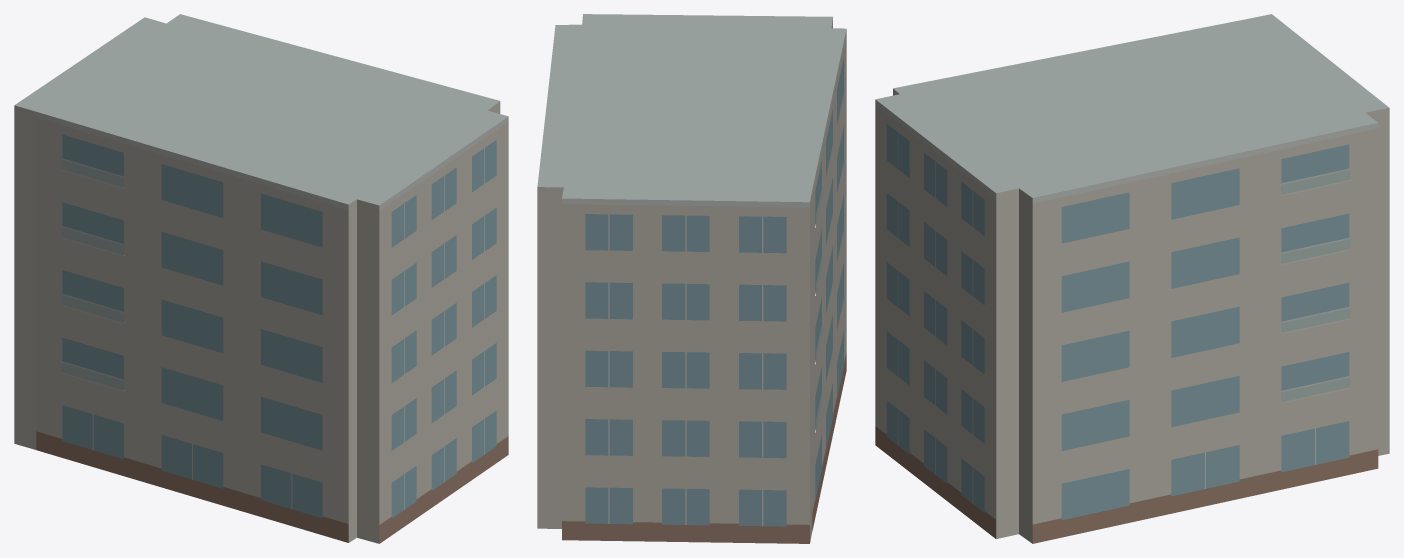
The model's file is survey-upis-33014215.glb.
3 views of the same model, side by side, from view 1: azimuth 30°, elevation 25°; view 2: azimuth 150°, elevation 25°; view 3: azimuth 270°, elevation 25° (orthographic). The views are drawn at different scales.
Parts seen in each view (by area): view 1: survey-upis-33014215.tmp; view 2: survey-upis-33014215.tmp; view 3: survey-upis-33014215.tmp.
Boxes of the visible parts, left/top/right/bottom form: survey-upis-33014215.tmp: left=14, top=14, right=508, bottom=543; survey-upis-33014215.tmp: left=537, top=14, right=846, bottom=543; survey-upis-33014215.tmp: left=875, top=14, right=1389, bottom=543.
Bounding box in the file's own units: 17.01 × 14.9 × 20.09.
